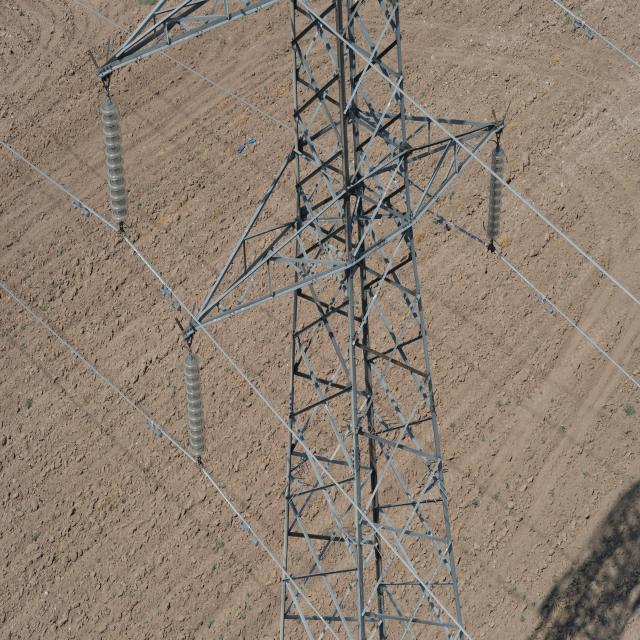direk: (210, 2, 502, 640)
